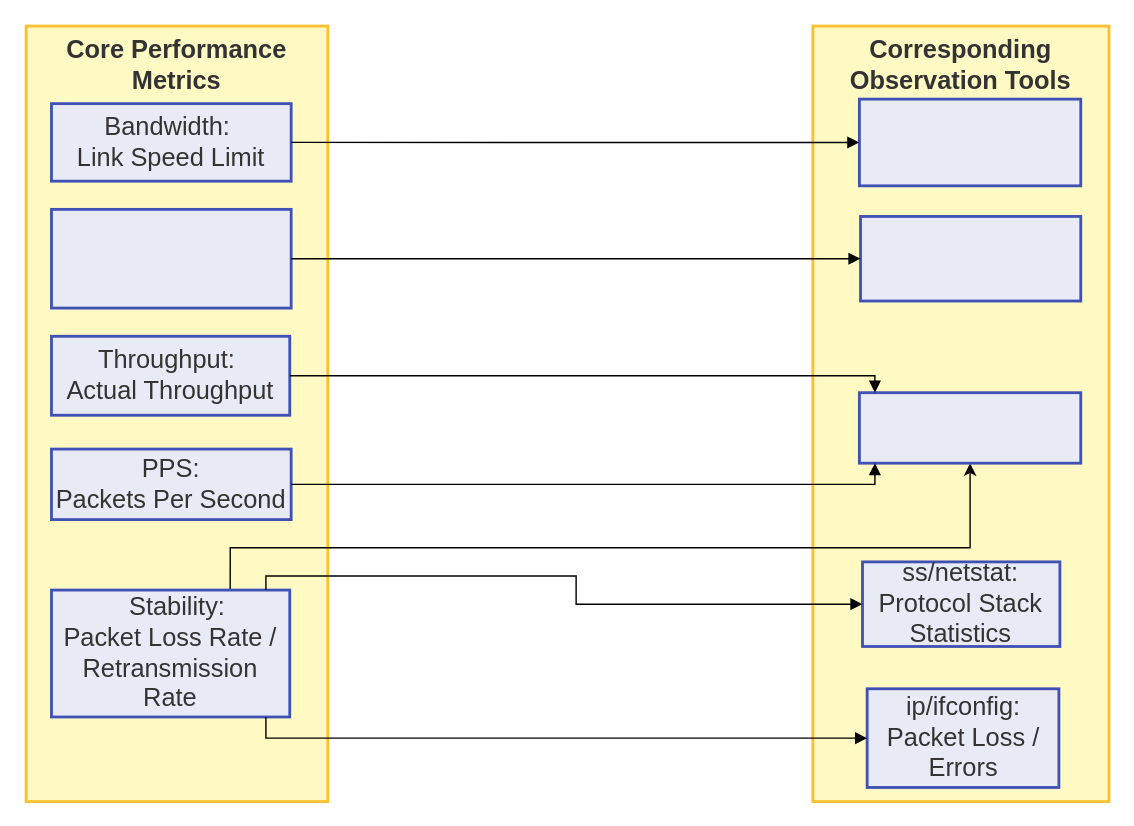
Image size: 1134x826. Some labels were removed from this diagram. The shapes that lost their labels are listed below. From the top down, each one's centre as x and y in pixels, then its label:
(969,142): ethtool: Bandwidth Check
(170,258): Latency: RTT/Handshake Latency
(969,258): ping: Latency / Connectivity
(969,427): tcpdump: Throughput / PPS
